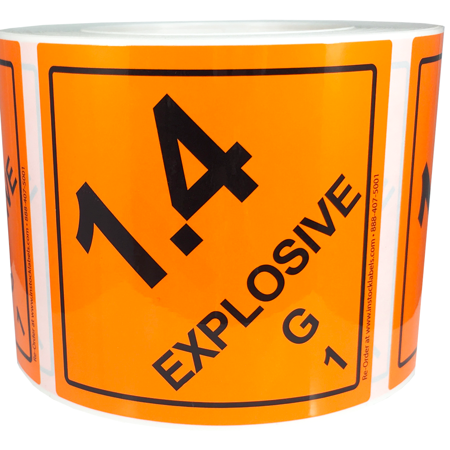Explosive: (42, 51, 367, 401)
